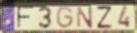3: (37, 5, 54, 30)
4: (117, 4, 132, 30)
F: (16, 6, 35, 30)
G: (55, 5, 74, 30)
N: (76, 5, 94, 29)
Z: (96, 5, 113, 29)
